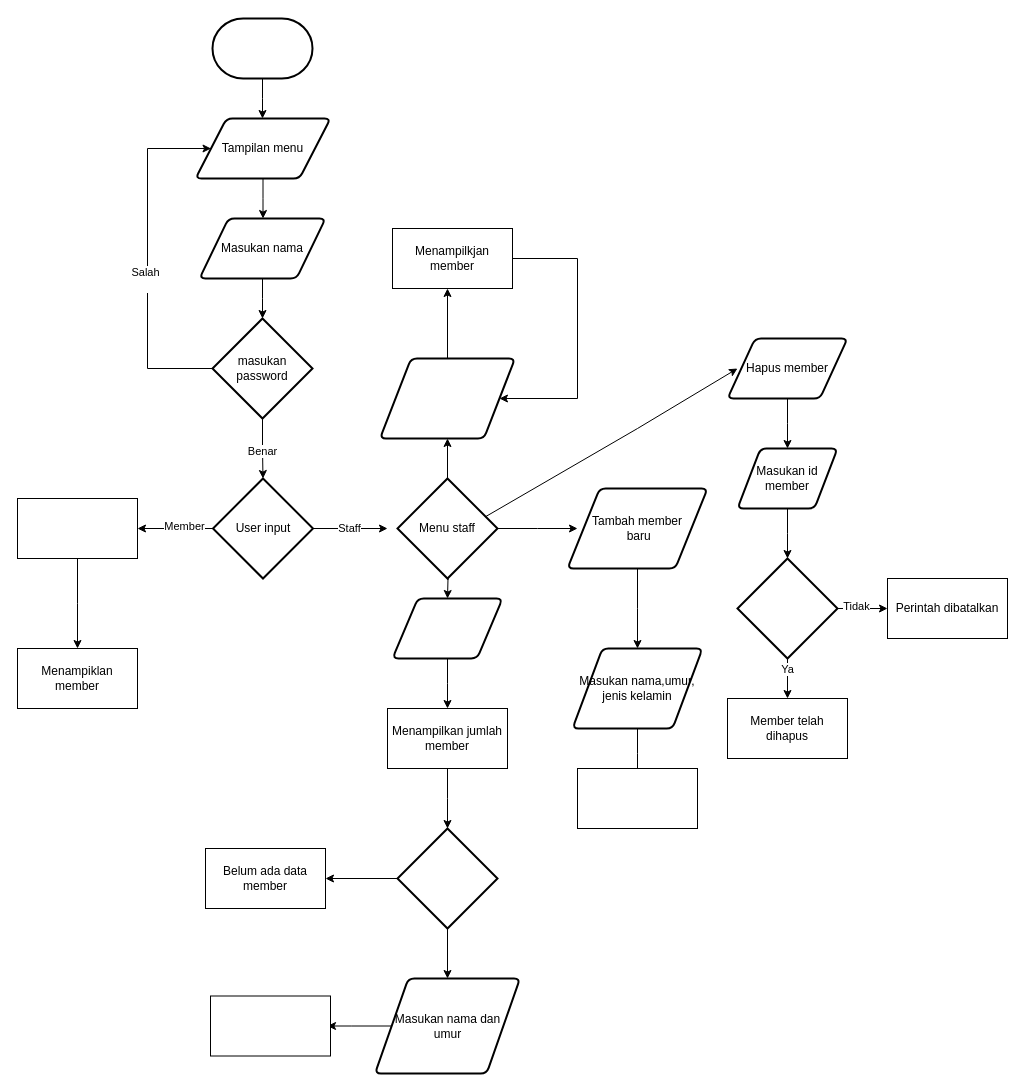
Some shapes in this 1025 by 1091 pixel diagram are drawn without their labels. Each missing label, with the box of its shape:
Apakah yakin?: (736, 557, 838, 659)
Data member telah di perbaharui: (210, 995, 330, 1056)
Edit data member: (396, 827, 498, 929)
Member telah berhasil ditambahkan: (576, 768, 698, 828)
Menu member: (16, 498, 138, 558)
Mulai: (211, 17, 313, 79)
Tampilkan semua member: (378, 357, 516, 439)
Update data member: (391, 597, 503, 659)
